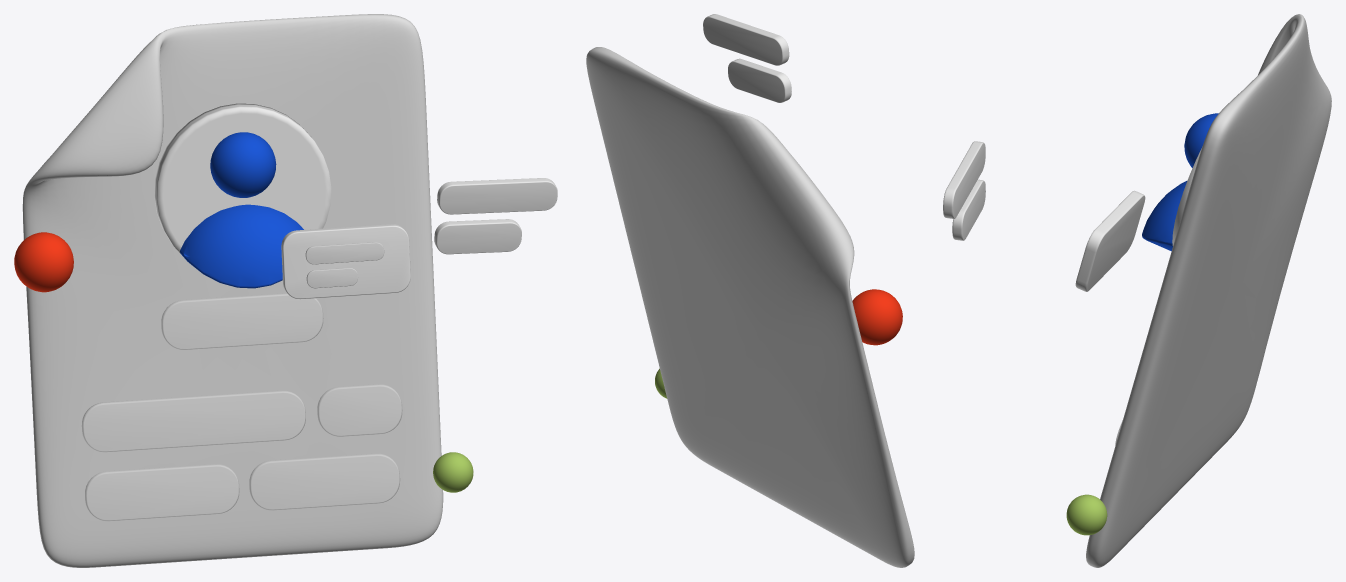
3 renders of one model, left to right at view 1: azimuth 30°, elevation 25°; view 2: azimuth 150°, elevation 25°; view 3: azimuth 270°, elevation 25°, orthographic. The views are drawn at different scales.
Visible parts, largest first — view 1: Plane.006, Plane.001, Circle.002, Sphere.006, Plane.003, Plane.005, Sphere.005, Sphere.003, Plane.002, Sphere.004; view 2: Plane.006, Plane.003, Sphere.003; view 3: Plane.006, Plane.005, Plane.003, Sphere.006, Sphere.004, Sphere.005.
Boxes of the visible parts, <box> form: Plane.006: <box>22,14,443,567</box>; Plane.001: <box>81,293,402,521</box>; Circle.002: <box>154,103,331,253</box>; Sphere.006: <box>180,204,303,288</box>; Plane.003: <box>434,178,557,254</box>; Plane.005: <box>281,224,410,299</box>; Sphere.005: <box>210,132,276,197</box>; Sphere.003: <box>14,232,73,292</box>; Plane.002: <box>305,242,384,288</box>; Sphere.004: <box>433,452,473,492</box>; Plane.006: <box>586,47,914,567</box>; Plane.003: <box>703,14,791,102</box>; Sphere.003: <box>852,289,902,345</box>; Plane.006: <box>1086,14,1331,567</box>; Plane.005: <box>1075,190,1145,291</box>; Plane.003: <box>943,141,985,240</box>; Sphere.006: <box>1142,181,1187,251</box>; Sphere.004: <box>1066,494,1107,535</box>; Sphere.005: <box>1184,113,1218,167</box>.
Bounding box in the file's own units: 230 × 283 × 206.
